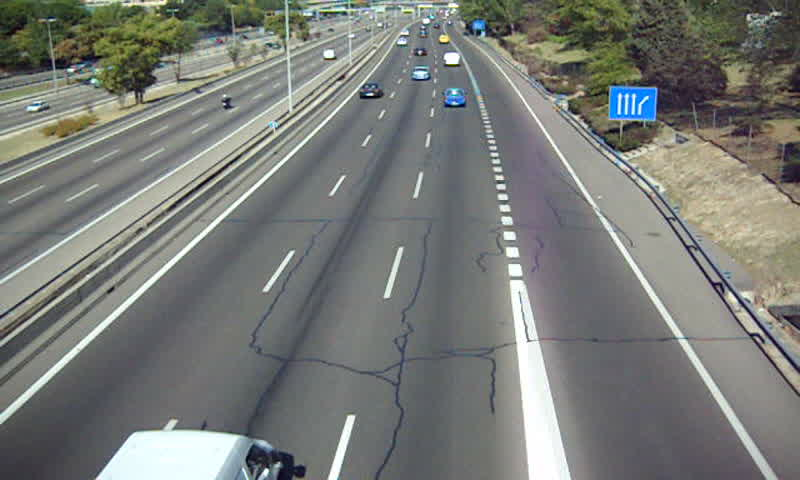car: (443, 87, 467, 107), (357, 83, 383, 100), (410, 66, 430, 80)
van: (442, 52, 461, 67)
